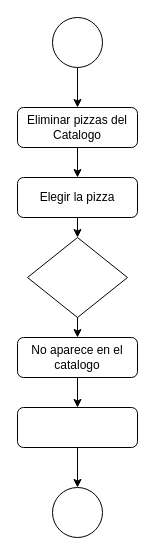
Some shapes in this 155 by 555 pixel diagram are drawn without their labels. The centre of each missing label's shape, as x and y in pixels:
"Eliminar pizza" belongs at [77,277].
"Nuevo catalogo" belongs at [77,427].
